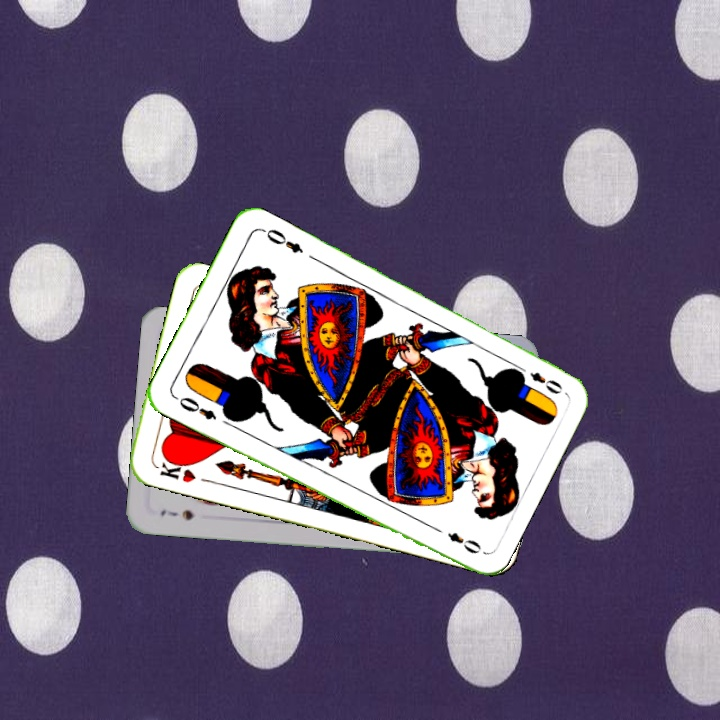EO: (512, 361, 565, 397), (170, 392, 219, 423)
HK: (151, 453, 198, 485)
S7: (156, 505, 196, 523)
